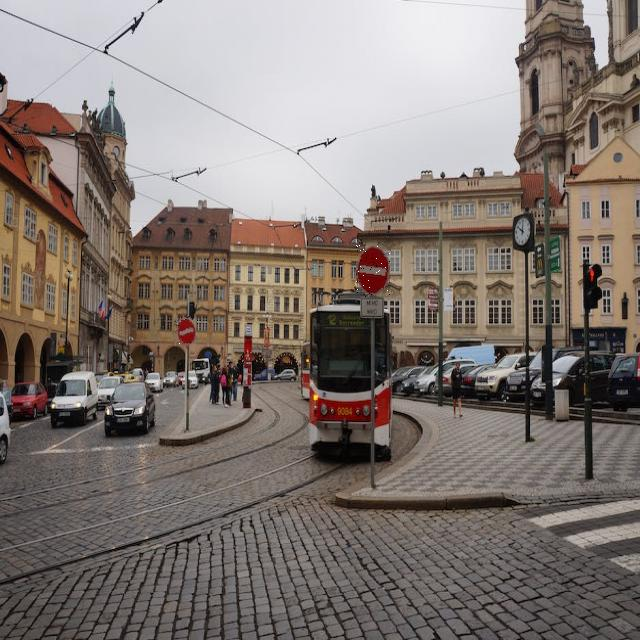no entry: (356, 245, 390, 297), (176, 317, 197, 347)
